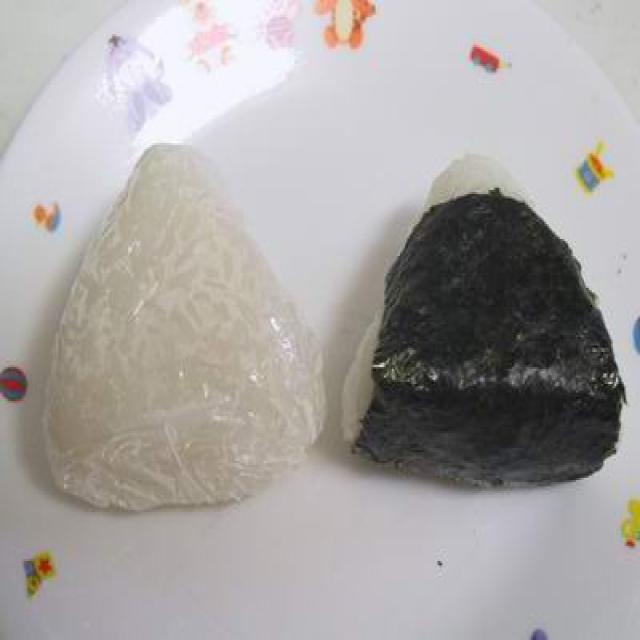米饭主食: (48, 130, 341, 529), (336, 139, 638, 497)
